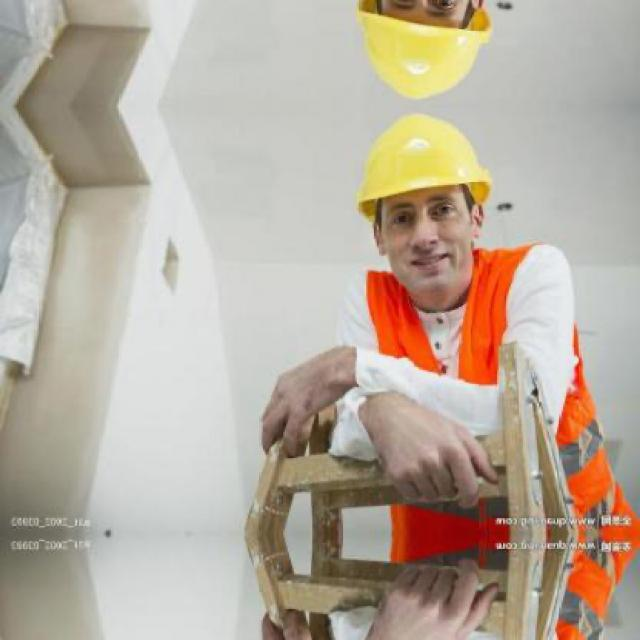helmet: (346, 114, 509, 309), (345, 0, 509, 100)
